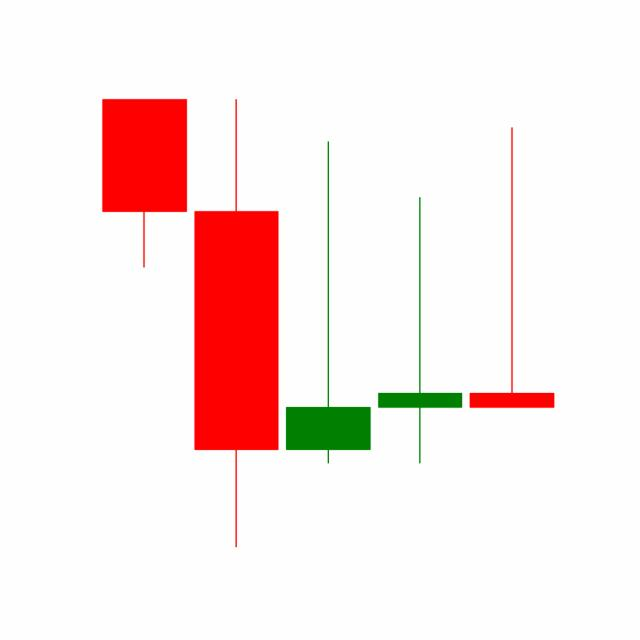Gravestone Doji: (373, 194, 467, 466)
